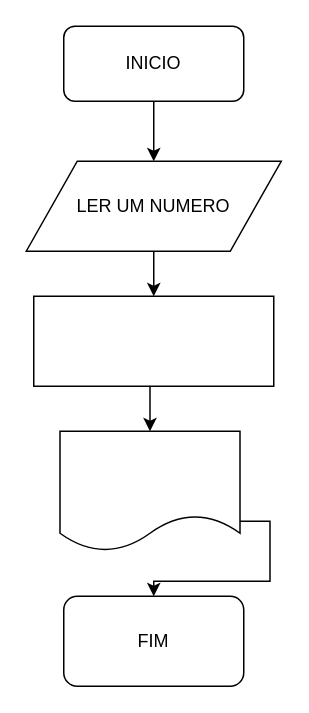
This 309x713 diagram has some shape labels left out. The centre of each missing label's shape, as x and y in pixels:
APRESENTAR O RESULTADO: the point at 149,490
F = (9 * C + 160) / 5: the point at 153,340
